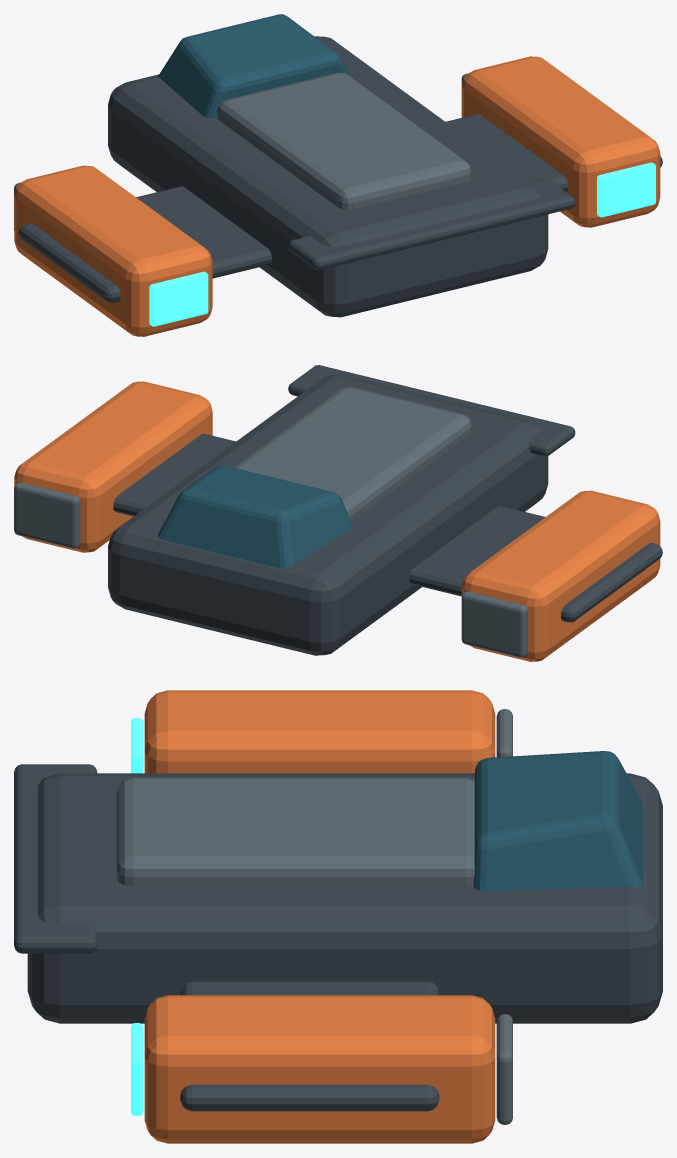
Rendered from vtol_blockout.glb.
3 views of the same model, one above another, from view 1: azimuth 30°, elevation 25°; view 2: azimuth 150°, elevation 25°; view 3: azimuth 270°, elevation 25° (orthographic). The views are drawn at different scales.
Visible parts, largest first — view 1: Body, UpperSpine, LeftEnginePod, RightEnginePod, CockpitShell, WingCore, TailPlane, LeftExhaust, RightExhaust; view 2: Body, LeftEnginePod, UpperSpine, RightEnginePod, CockpitShell, WingCore, RightIntake, LeftIntake, TailPlane; view 3: Body, RightEnginePod, UpperSpine, LeftEnginePod, CockpitShell, WingCore, TailPlane, RightIntake, RightExhaust, LeftIntake, LeftExhaust.
Boxes of the visible parts, x1,y1,x2,y2 form: Body: [108, 36, 548, 317]; UpperSpine: [217, 72, 471, 209]; LeftEnginePod: [14, 165, 212, 336]; RightEnginePod: [461, 56, 660, 227]; CockpitShell: [158, 14, 349, 118]; WingCore: [18, 114, 662, 302]; TailPlane: [288, 178, 575, 269]; LeftExhaust: [149, 271, 208, 326]; RightExhaust: [597, 162, 655, 217]; Body: [108, 374, 548, 655]; LeftEnginePod: [461, 490, 660, 661]; UpperSpine: [234, 387, 471, 521]; RightEnginePod: [14, 381, 212, 552]; CockpitShell: [158, 465, 352, 568]; WingCore: [113, 433, 662, 622]; RightIntake: [14, 482, 80, 548]; LeftIntake: [461, 591, 527, 657]; TailPlane: [288, 365, 575, 456]; Body: [27, 773, 662, 1023]; RightEnginePod: [144, 995, 495, 1143]; UpperSpine: [116, 777, 474, 885]; LeftEnginePod: [144, 690, 495, 773]; CockpitShell: [473, 751, 642, 891]; WingCore: [180, 981, 439, 1111]; TailPlane: [14, 764, 97, 953]; RightIntake: [496, 1014, 512, 1124]; RightExhaust: [131, 1023, 142, 1115]; LeftIntake: [496, 709, 512, 757]; LeftExhaust: [131, 718, 142, 773].
Size of the model in its own units: 8.85 by 2.03 by 6.39.
